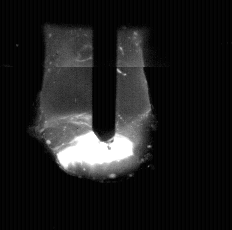arame: (93, 0, 118, 151)
poca: (55, 0, 145, 230)
